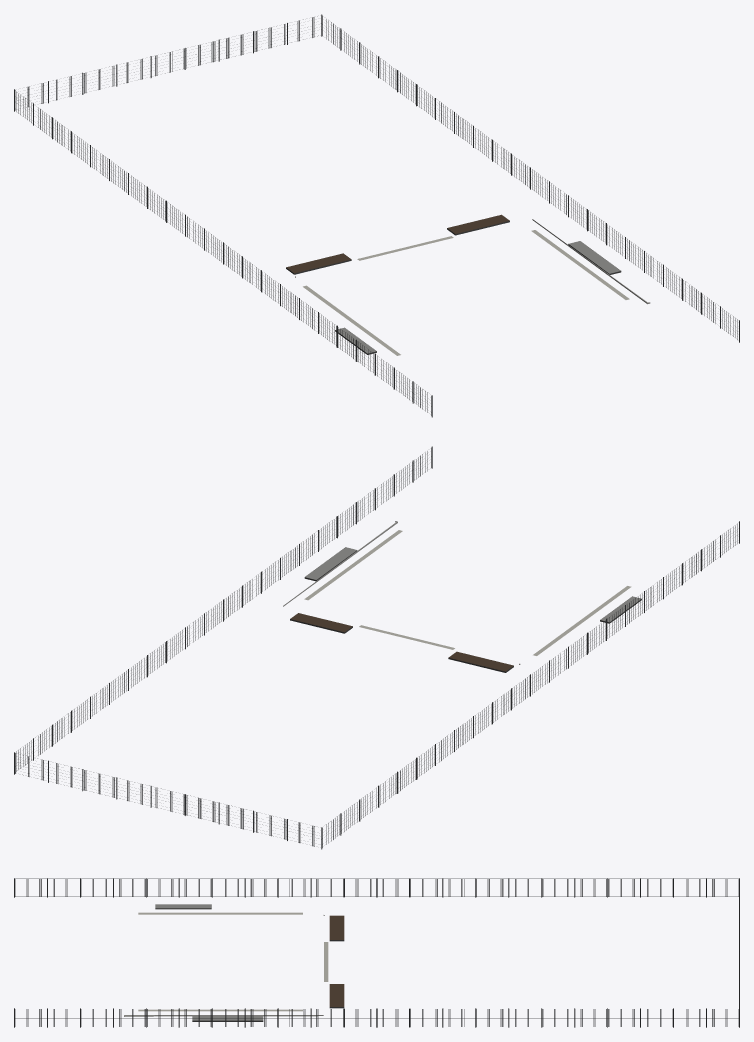
The model's file is garden.glb.
The picture shows the model from 3 angles, top to bottom: view 1: azimuth 30°, elevation 25°; view 2: azimuth 150°, elevation 25°; view 3: azimuth 270°, elevation 25°; orthographic projection. The views are drawn at different scales.
Parts seen in each view (by area): view 1: ENV welded mesh fence • solid posts, ENV loose limestone chips, ENV mulched perennial borders, ENV gravel beds; view 2: ENV welded mesh fence • solid posts, ENV loose limestone chips, ENV mulched perennial borders, ENV gravel beds; view 3: ENV welded mesh fence • solid posts, ENV loose limestone chips, ENV mulched perennial borders, ENV gravel beds, ENV precast paving edge restraint.
Boxes of the visible parts, left/top/right/bottom form: ENV welded mesh fence • solid posts: left=14, top=14, right=739, bottom=417; ENV loose limestone chips: left=303, top=230, right=629, bottom=355; ENV mulched perennial borders: left=286, top=215, right=509, bottom=273; ENV gravel beds: left=335, top=241, right=620, bottom=353; ENV welded mesh fence • solid posts: left=14, top=446, right=739, bottom=849; ENV loose limestone chips: left=304, top=530, right=631, bottom=655; ENV mulched perennial borders: left=290, top=613, right=513, bottom=671; ENV gravel beds: left=305, top=547, right=641, bottom=622; ENV welded mesh fence • solid posts: left=14, top=878, right=739, bottom=1027; ENV loose limestone chips: left=138, top=912, right=328, bottom=1011; ENV mulched perennial borders: left=329, top=915, right=344, bottom=1006; ENV gravel beds: left=155, top=904, right=263, bottom=1020; ENV precast paving edge restraint: left=124, top=915, right=324, bottom=1016.
Bounding box in the file's own units: 22.57 × 1.61 × 53.07.
